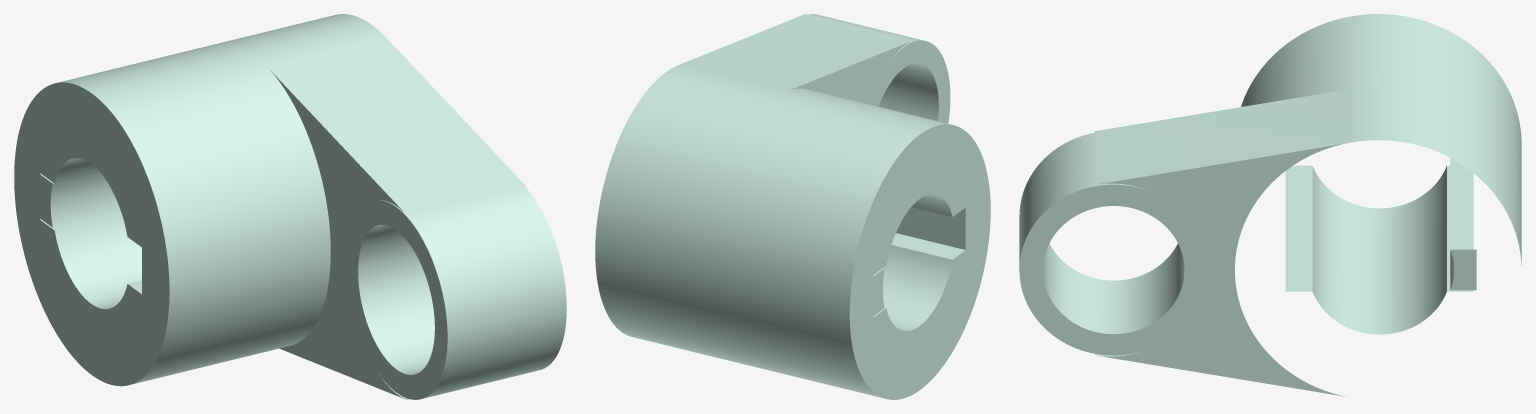
3 renders of one model, left to right at view 1: azimuth 30°, elevation 25°; view 2: azimuth 150°, elevation 25°; view 3: azimuth 270°, elevation 25°, orthographic. The views are drawn at different scales.
Parts seen in each view (by area): view 1: Renderer Node; view 2: Renderer Node; view 3: Renderer Node.
Boxes of the visible parts, x1=… form: Renderer Node: x1=14, y1=14, x2=566, y2=399; Renderer Node: x1=595, y1=14, x2=990, y2=399; Renderer Node: x1=1019, y1=14, x2=1521, y2=396.
Size of the model in its own units: 0.3125 by 0.3 by 0.5255.
